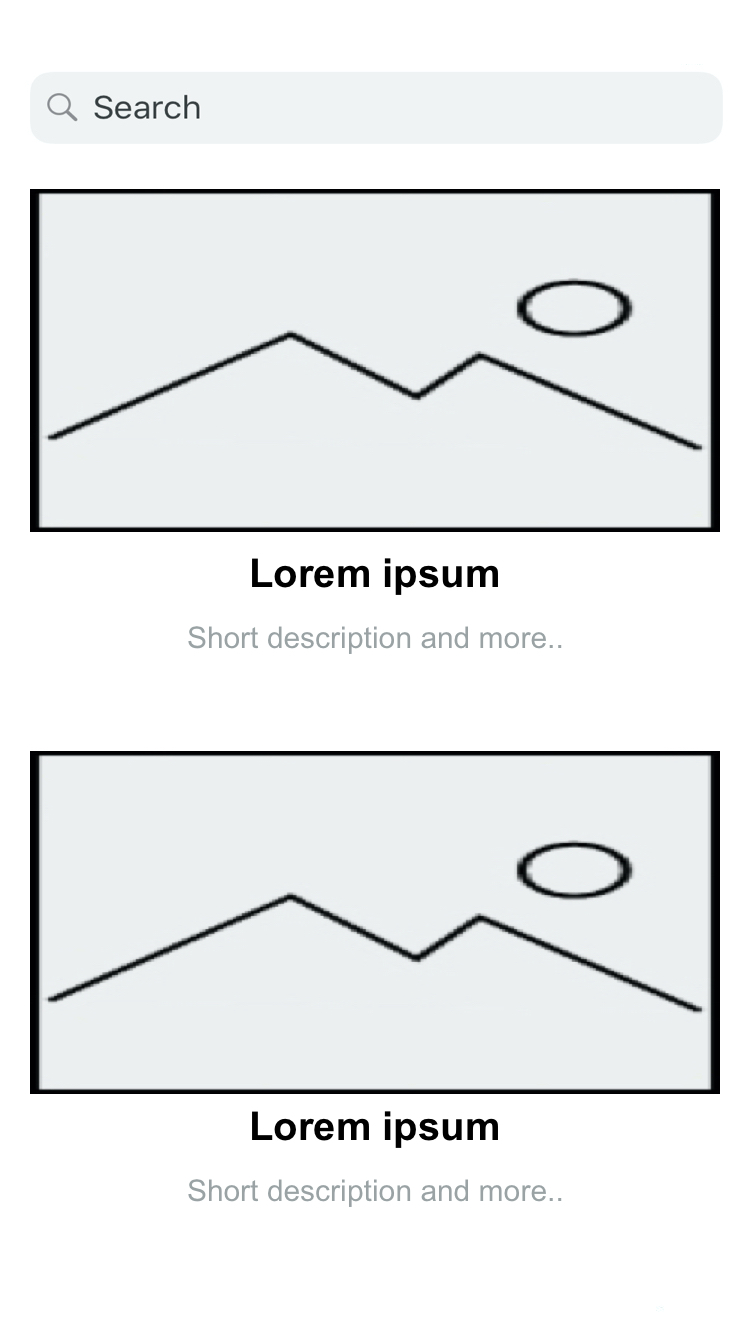EditText: (30, 72, 724, 146)
Icon: (47, 93, 79, 123)
Image: (29, 749, 722, 1096), (29, 188, 723, 534)
Text: (188, 626, 563, 655), (188, 1178, 563, 1207), (251, 1109, 499, 1147), (252, 558, 499, 596), (94, 95, 202, 121)
